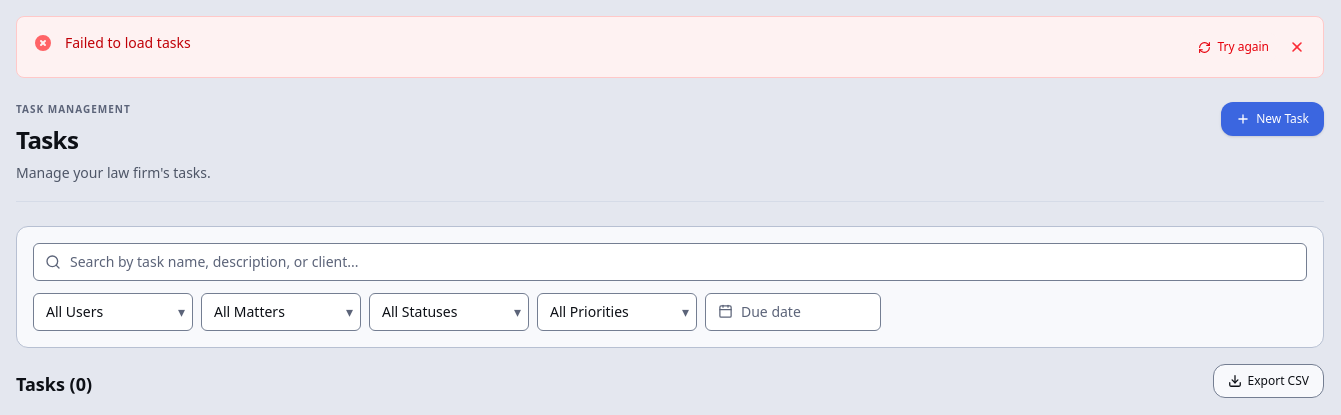
Scenario: TasksGrid › error banner › dismisses a load error
Expected: the text "Failed to load tasks" is shown, left=65, top=33, right=191, bottom=52
What coordinates should you click on to do the following:
click the button named "Close"
I would click on:
 (1297, 47)
Its box is left=1281, top=31, right=1313, bottom=63.
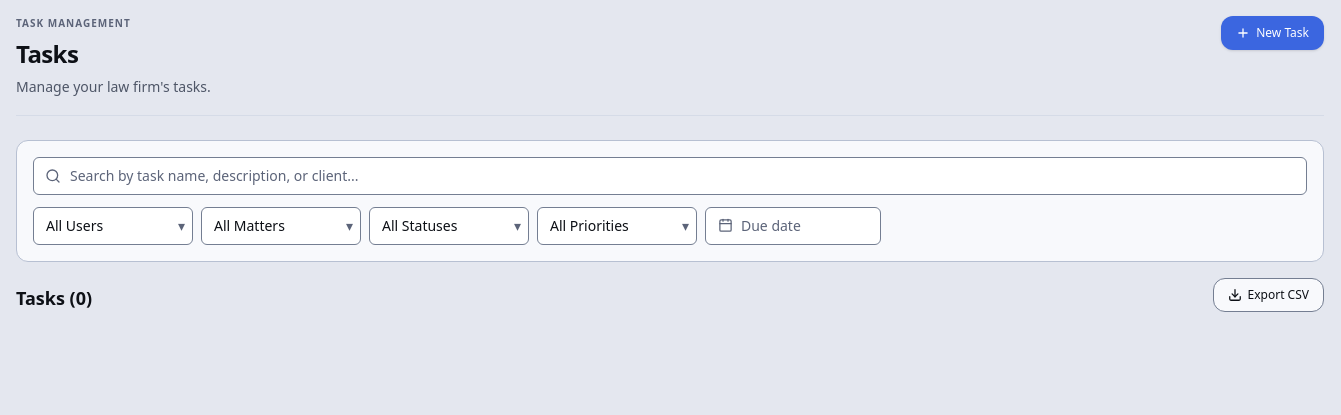
Now the text "Failed to load tasks" is gone
